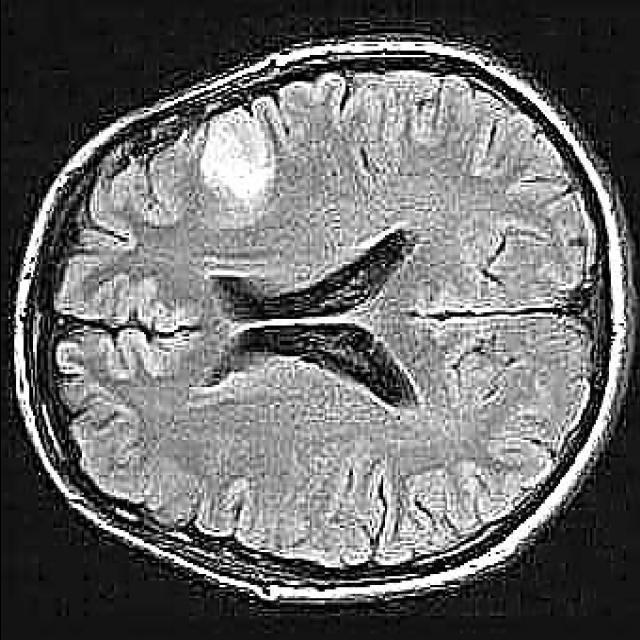tumor: (196, 95, 286, 231)
